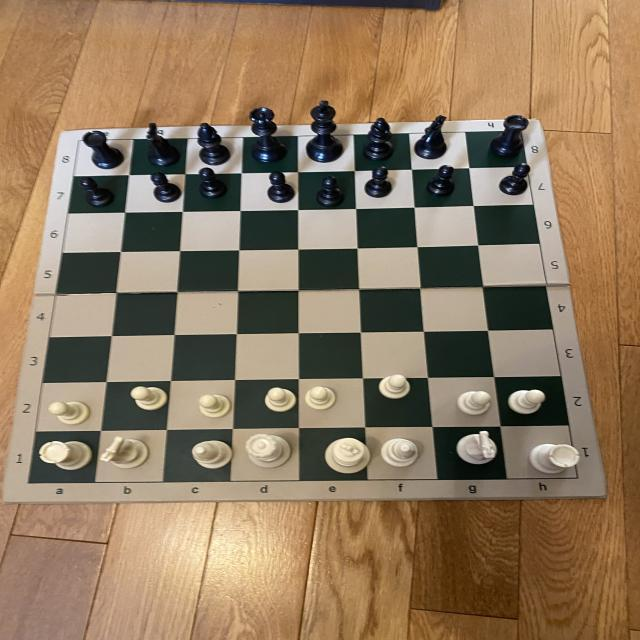chess-table-corners: (563, 470, 587, 483), (19, 476, 38, 489), (72, 138, 90, 149)
